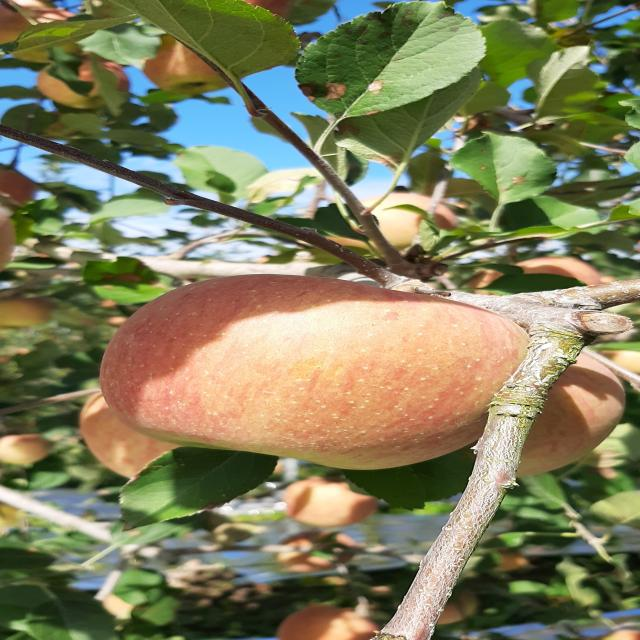fresh: (88, 266, 565, 477)
